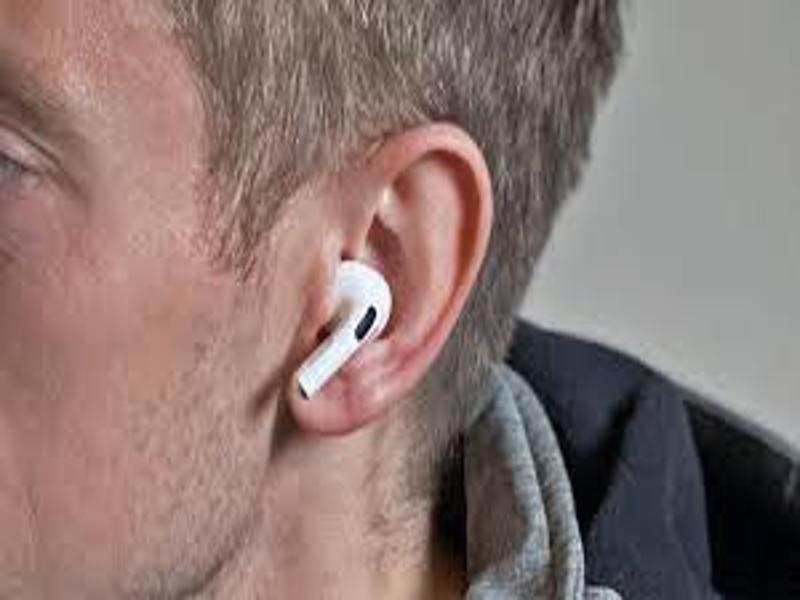headphone: (286, 261, 399, 397)
